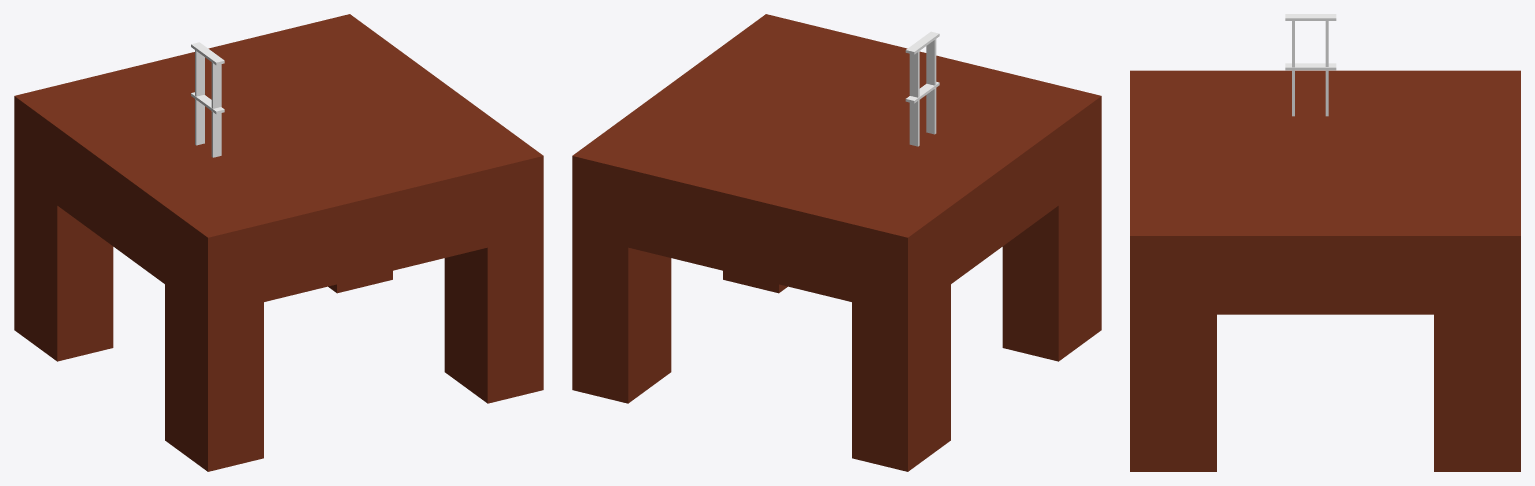
File: keva_double_pi_rotated.dae
3 views of the same model, side by side, from view 1: azimuth 30°, elevation 25°; view 2: azimuth 150°, elevation 25°; view 3: azimuth 270°, elevation 25° (orthographic).
Visible parts, largest first — view 1: base (×5); view 2: base (×5); view 3: base (×3).
Part boxes in pixels (x1,y1,x2,y2): base (×5): (14, 14, 543, 471); base (×5): (572, 14, 1101, 471); base (×3): (1130, 70, 1520, 471).
Bounding box in the file's own units: 0.9 × 0.9 × 0.8507.
